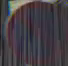No Stopping: (7, 3, 59, 61)
